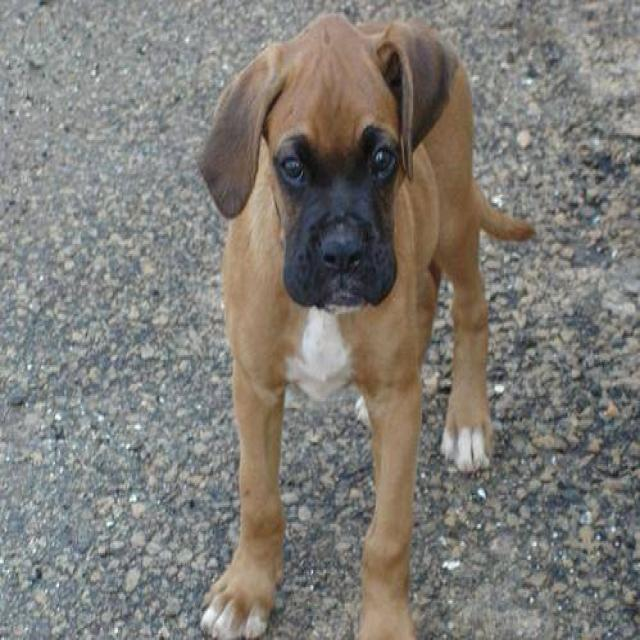dog: (196, 9, 535, 638)
